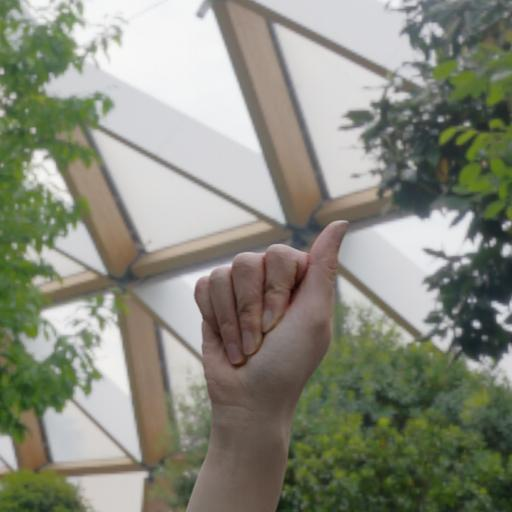A: (186, 214, 352, 442)
